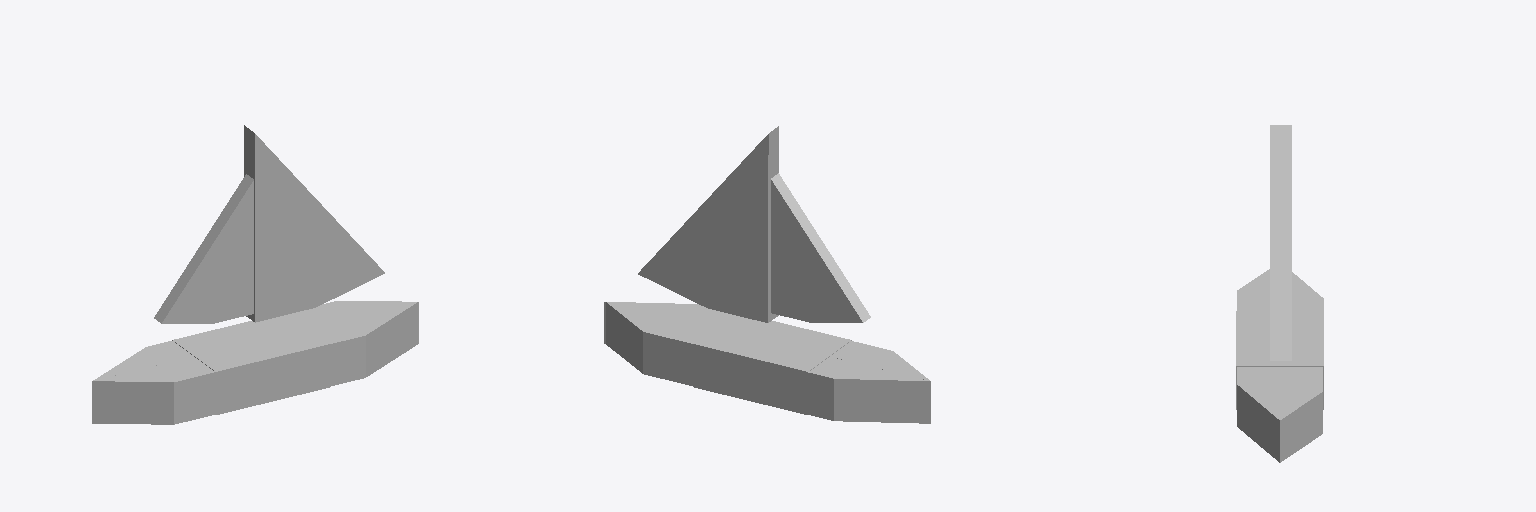
File: boat.obj
3 renders of one model, left to right at view 1: azimuth 30°, elevation 25°; view 2: azimuth 150°, elevation 25°; view 3: azimuth 270°, elevation 25°, orthographic.
Visible parts, largest first — view 1: Cube.008_Cube.009, Cube, Cube.009_Cube.010, Cube.001, Cube.003_Cube.004, Cube.004_Cube.005, Cube.002_Cube.003; view 2: Cube.008_Cube.009, Cube, Cube.009_Cube.010, Cube.002_Cube.003, Cube.004_Cube.005, Cube.003_Cube.004, Cube.001; view 3: Cube.008_Cube.009, Cube, Cube.004_Cube.005, Cube.003_Cube.004, Cube.001, Cube.002_Cube.003.
Part boxes in pixels (left/top/right/bottom): Cube.008_Cube.009: left=244, top=125, right=384, bottom=322; Cube: left=172, top=314, right=329, bottom=414; Cube.009_Cube.010: left=154, top=174, right=253, bottom=323; Cube.001: left=92, top=356, right=215, bottom=424; Cube.003_Cube.004: left=310, top=302, right=417, bottom=386; Cube.004_Cube.005: left=290, top=301, right=418, bottom=343; Cube.002_Cube.003: left=93, top=341, right=192, bottom=380; Cube.008_Cube.009: left=638, top=126, right=778, bottom=322; Cube: left=694, top=315, right=851, bottom=414; Cube.009_Cube.010: left=771, top=173, right=870, bottom=322; Cube.002_Cube.003: left=808, top=357, right=930, bottom=423; Cube.004_Cube.005: left=606, top=302, right=714, bottom=386; Cube.003_Cube.004: left=604, top=302, right=732, bottom=343; Cube.001: left=830, top=341, right=929, bottom=380; Cube.008_Cube.009: left=1270, top=125, right=1291, bottom=360; Cube: left=1236, top=311, right=1323, bottom=409; Cube.004_Cube.005: left=1279, top=367, right=1322, bottom=462; Cube.003_Cube.004: left=1237, top=367, right=1279, bottom=462; Cube.001: left=1237, top=269, right=1269, bottom=310; Cube.002_Cube.003: left=1292, top=272, right=1323, bottom=310.
Bounding box in the file's own units: 1.94 × 1.46 × 0.4478.